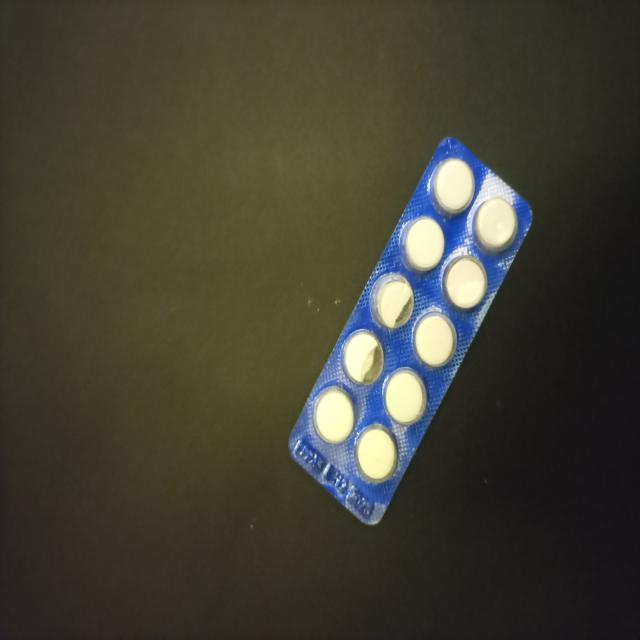defect: (370, 272, 416, 331), (340, 329, 384, 387)
